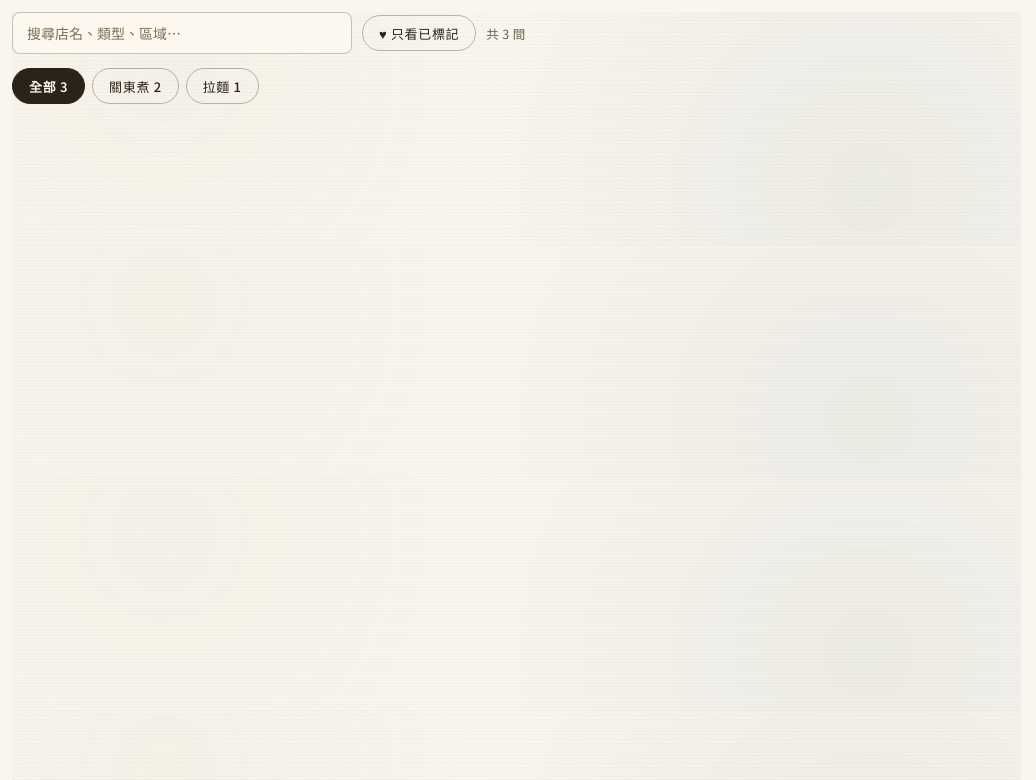
Test: Food 就地搜尋 › 只看已標記且無任何標記時顯示引導文案
Click the button "♥ 只看已標記". click: (419, 33)
box: [362,15,476,51]
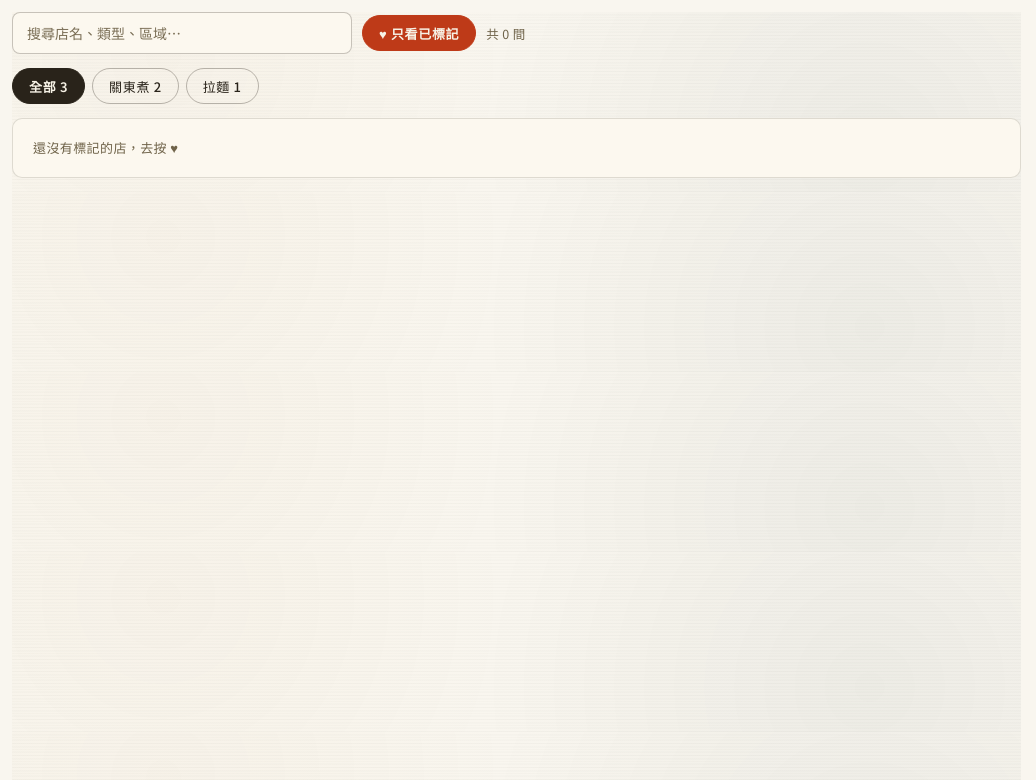
Check: the text "還沒有標記的店，去按 ♥" is shown, box [12,118,1021,178]
